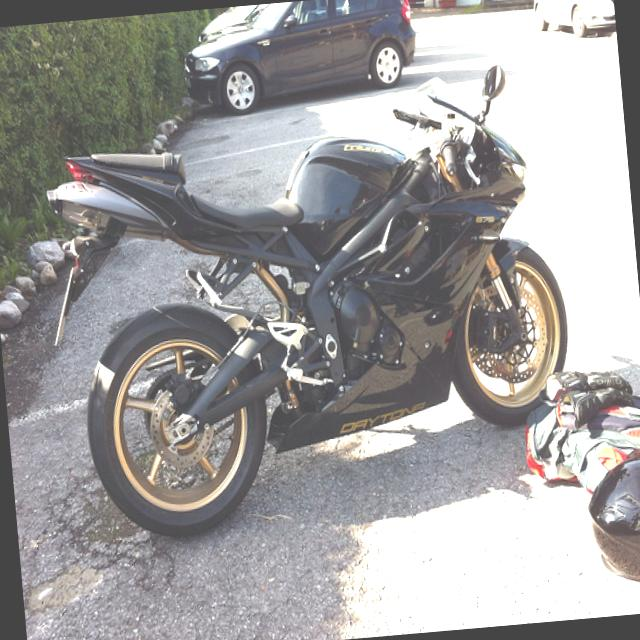Vehicle: (30, 53, 588, 552), (178, 0, 419, 110), (199, 0, 387, 43), (530, 0, 616, 39)
